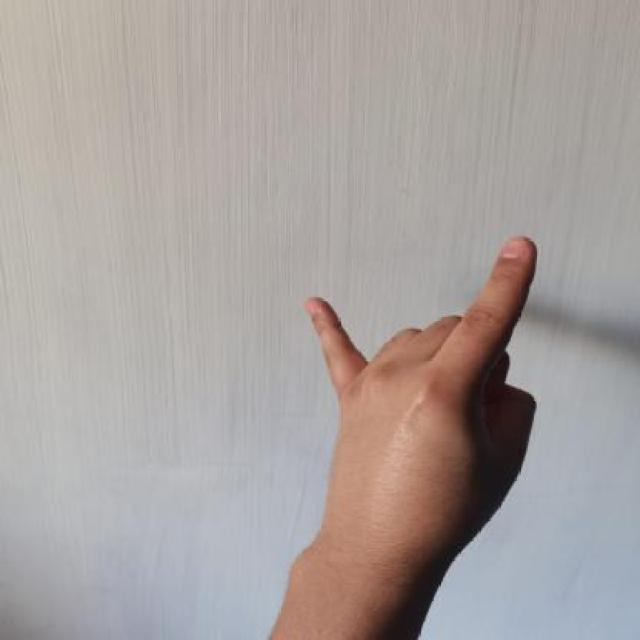U: (304, 235, 545, 520)
